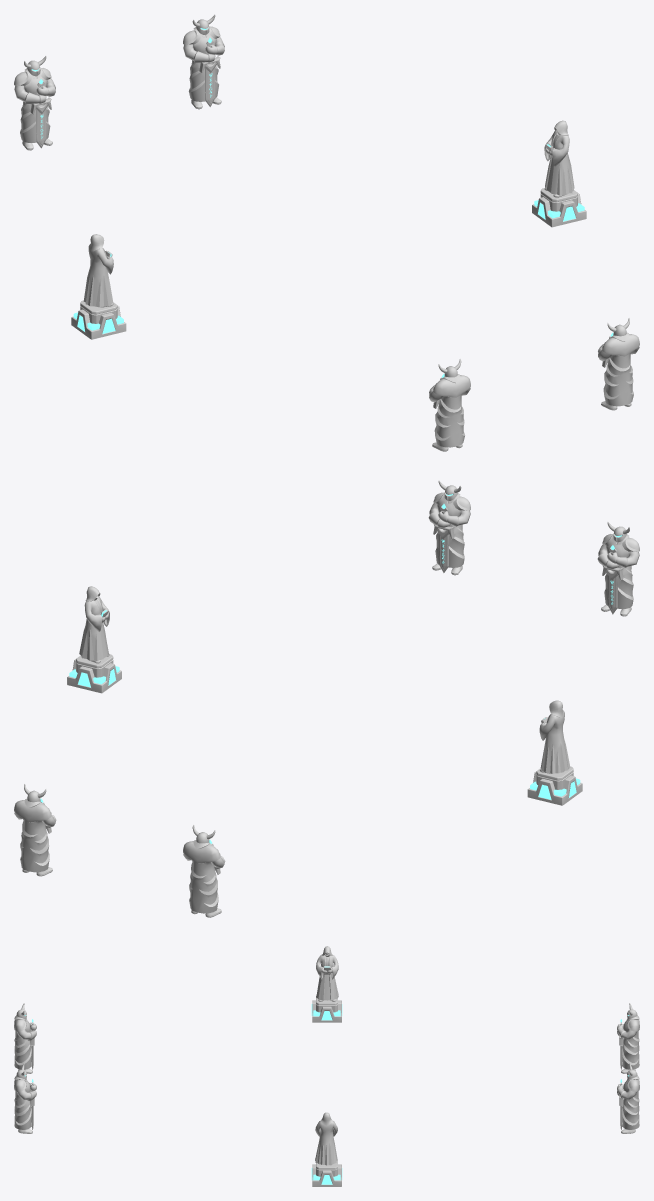
Rendered from Estatuas.fbx.
The picture shows the model from 3 angles, top to bottom: view 1: azimuth 30°, elevation 25°; view 2: azimuth 150°, elevation 25°; view 3: azimuth 270°, elevation 25°; orthographic projection. The views are drawn at different scales.
Visible parts, largest first — view 1: MageStatue.003, MageStatue.002, statue_knight_001.009, statue_knight_001.008, statue_knight_001.010, statue_knight_001.011; view 2: MageStatue.003, MageStatue.002, statue_knight_001.010, statue_knight_001.011, statue_knight_001.009, statue_knight_001.008; view 3: MageStatue.002, MageStatue.003, statue_knight_001.010, statue_knight_001.009, statue_knight_001.011, statue_knight_001.008.
Part boxes in pixels (x1,y1,x2,y2): MageStatue.003: [532, 120, 586, 227]; MageStatue.002: [71, 234, 126, 339]; statue_knight_001.009: [183, 14, 224, 109]; statue_knight_001.008: [14, 56, 55, 150]; statue_knight_001.010: [598, 318, 639, 410]; statue_knight_001.011: [429, 359, 470, 451]; MageStatue.003: [67, 586, 121, 693]; MageStatue.002: [527, 700, 582, 805]; statue_knight_001.010: [428, 480, 470, 575]; statue_knight_001.011: [597, 522, 639, 616]; statue_knight_001.009: [14, 784, 56, 876]; statue_knight_001.008: [183, 825, 225, 917]; MageStatue.002: [311, 946, 342, 1022]; MageStatue.003: [311, 1112, 342, 1186]; statue_knight_001.010: [14, 1063, 36, 1133]; statue_knight_001.009: [617, 1063, 639, 1133]; statue_knight_001.011: [14, 1003, 36, 1073]; statue_knight_001.008: [617, 1003, 639, 1073].
Bounding box in the file's own units: 27.66 × 5.15 × 41.31.
